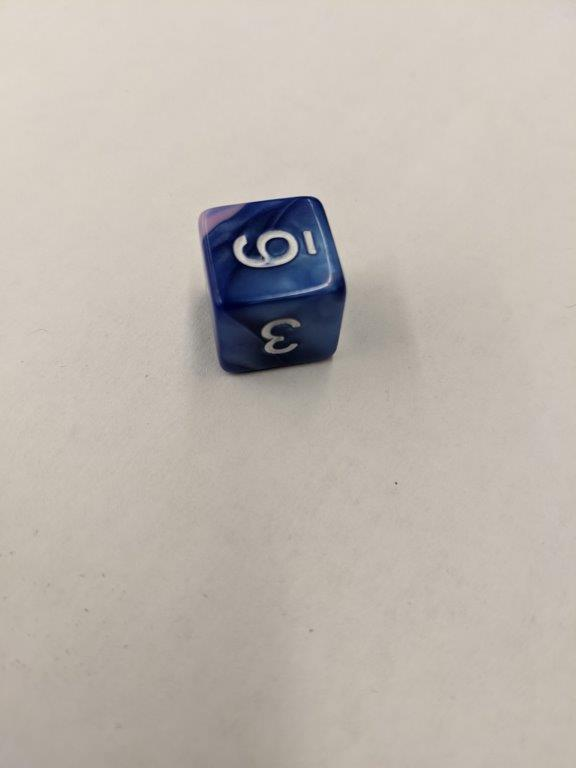d6-6: (197, 193, 347, 380)
